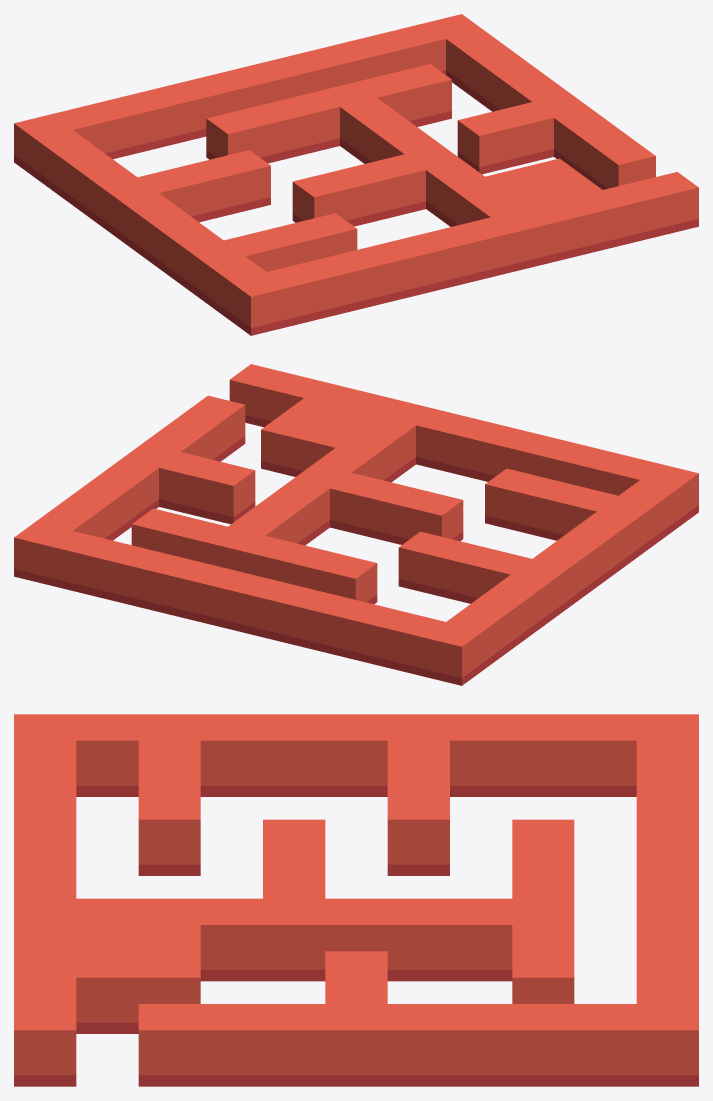
The model's file is map5.obj.
The picture shows the model from 3 angles, top to bottom: view 1: azimuth 30°, elevation 25°; view 2: azimuth 150°, elevation 25°; view 3: azimuth 270°, elevation 25°; orthographic projection. The views are drawn at different scales.
Parts seen in each view (by area): view 1: mergedBlocks; view 2: mergedBlocks; view 3: mergedBlocks.
Boxes of the visible parts, x1=… form: mergedBlocks: x1=14, y1=14, x2=698, y2=335; mergedBlocks: x1=14, y1=364, x2=698, y2=685; mergedBlocks: x1=14, y1=714, x2=698, y2=1086.
Bounding box in the file's own units: 12 × 1 × 11.
